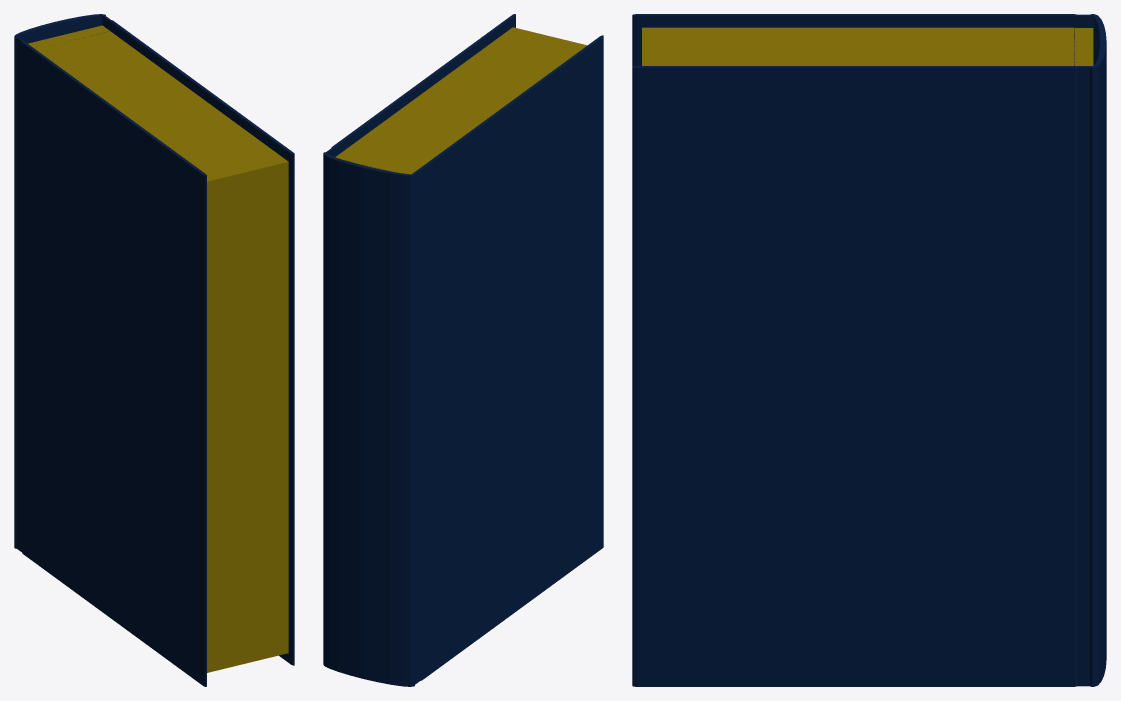
File: Book Blue.fbx
3 renders of one model, left to right at view 1: azimuth 30°, elevation 25°; view 2: azimuth 150°, elevation 25°; view 3: azimuth 270°, elevation 25°, orthographic. The views are drawn at different scales.
Visible parts, largest first — view 1: pCylinder46; view 2: pCylinder46; view 3: pCylinder46.
Boxes of the visible parts, box(x1,y1,x2,y2) form: pCylinder46: box(14, 14, 294, 686); pCylinder46: box(323, 14, 603, 686); pCylinder46: box(632, 14, 1106, 686).
Size of the model in its own units: 11.14 by 59.78 by 41.48.
